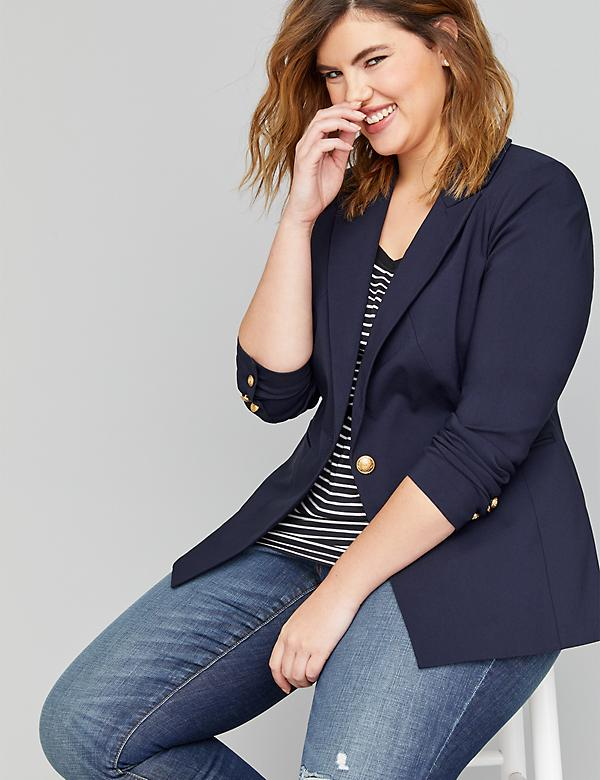F_W_suit jacket: (210, 138, 591, 658)
